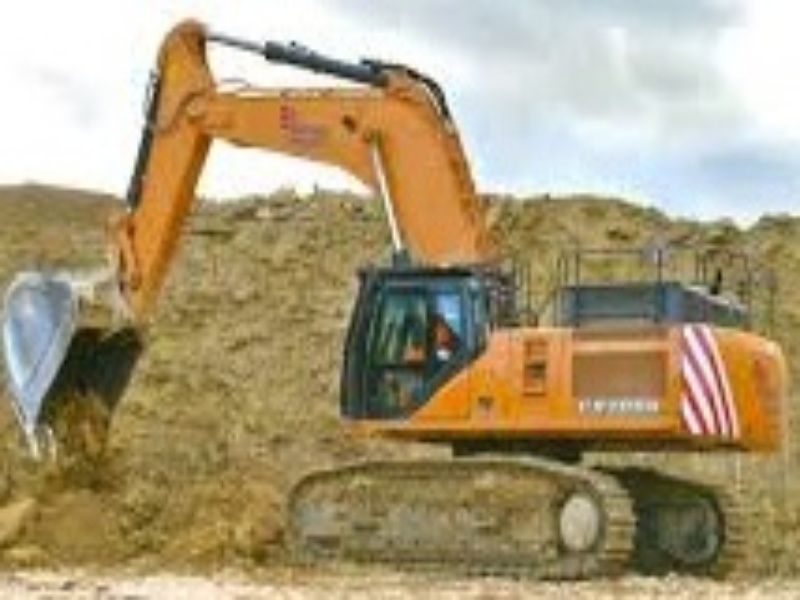wajueji: (245, 218, 790, 600)
